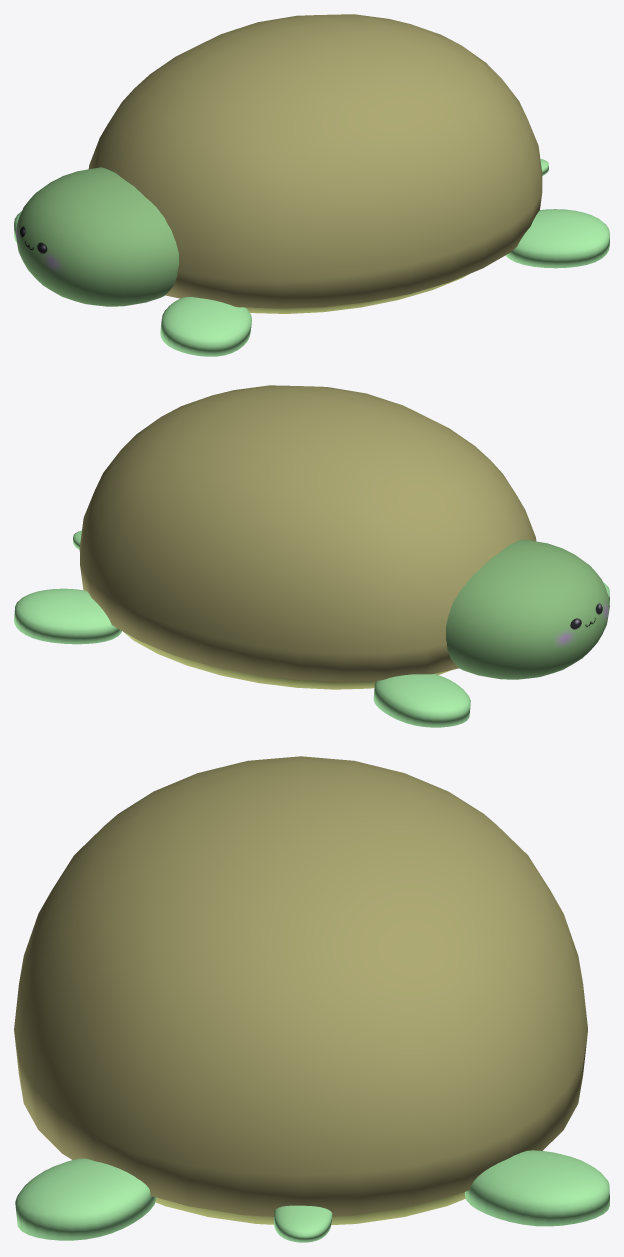
The model's file is turtle5.fbx.
3 views of the same model, one above another, from view 1: azimuth 30°, elevation 25°; view 2: azimuth 150°, elevation 25°; view 3: azimuth 270°, elevation 25° (orthographic). The views are drawn at different scales.
Parts seen in each view (by area): view 1: Cube, Cube.001, Cube.006, Cube.007, Cube.002; view 2: Cube, Cube.001, Cube.005, Cube.004, Cube.002; view 3: Cube, Cube.006, Cube.005, Cube.002, Cube.008.
Part boxes in pixels (box(x1,y1,x2,y2)): Cube: box(88, 14, 542, 308); Cube.001: box(15, 167, 178, 306); Cube.006: box(505, 209, 609, 268); Cube.007: box(160, 297, 251, 356); Cube.002: box(246, 274, 469, 313); Cube: box(79, 385, 536, 681); Cube.001: box(446, 539, 609, 679); Cube.005: box(14, 588, 121, 644); Cube.004: box(373, 674, 470, 727); Cube.002: box(124, 632, 451, 689); Cube: box(14, 756, 587, 1216); Cube.006: box(15, 1158, 156, 1240); Cube.005: box(465, 1150, 609, 1226); Cube.002: box(155, 1192, 465, 1224); Cube.008: box(274, 1205, 332, 1242).
Bounding box in the file's own units: 328 × 125 × 224.
4 materials, 1 textured.
